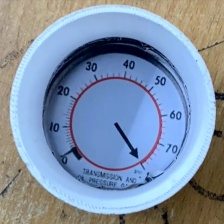gauge: (46, 52, 188, 191)
